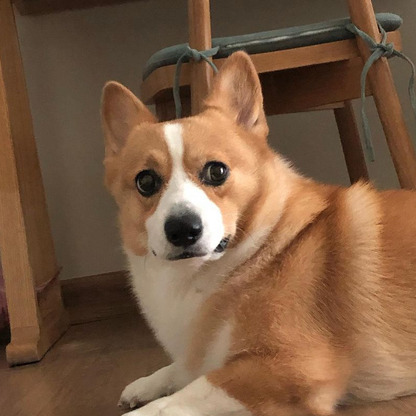Corgi: (72, 63, 391, 401)
